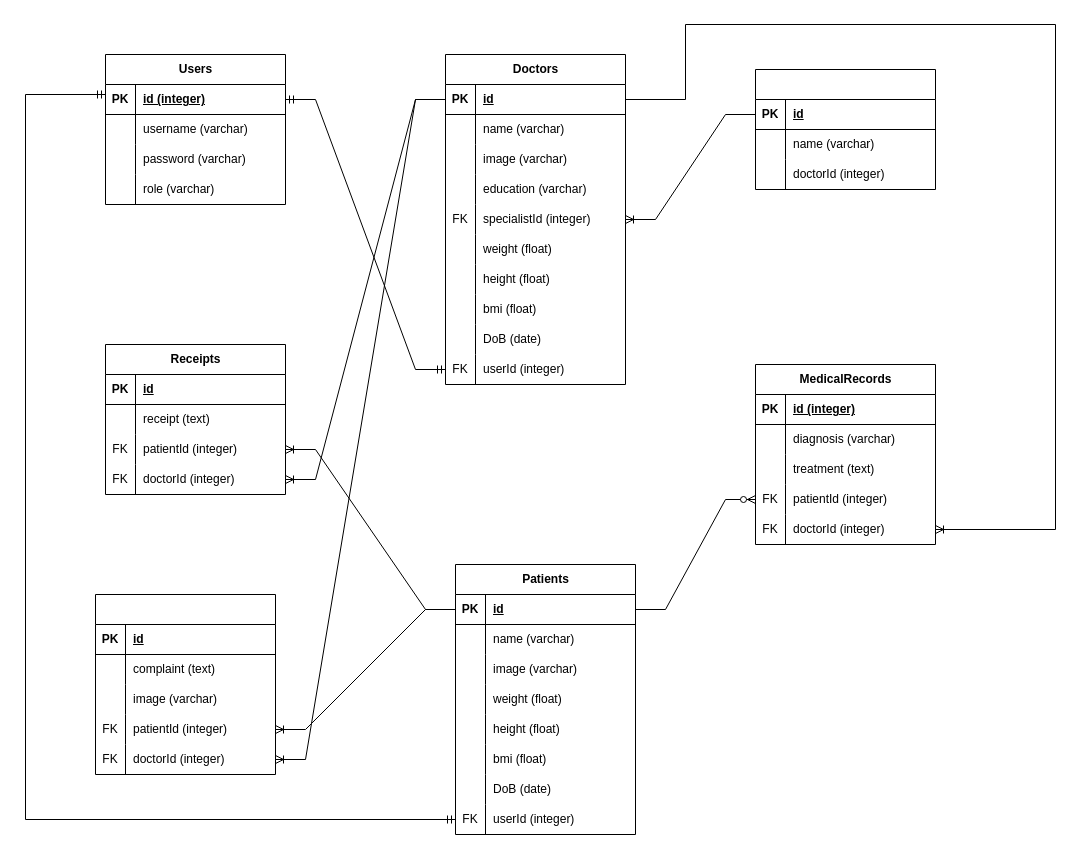
Some shapes in this 1081 by 852 pixel diagram are drawn without their labels. The shapes that lost their labels are listed below. From the top down, each one's box as (x1, y1, x2, y2) in pixels, then its label:
(754, 68, 936, 190): Specialist
(94, 594, 276, 774): Consultations
